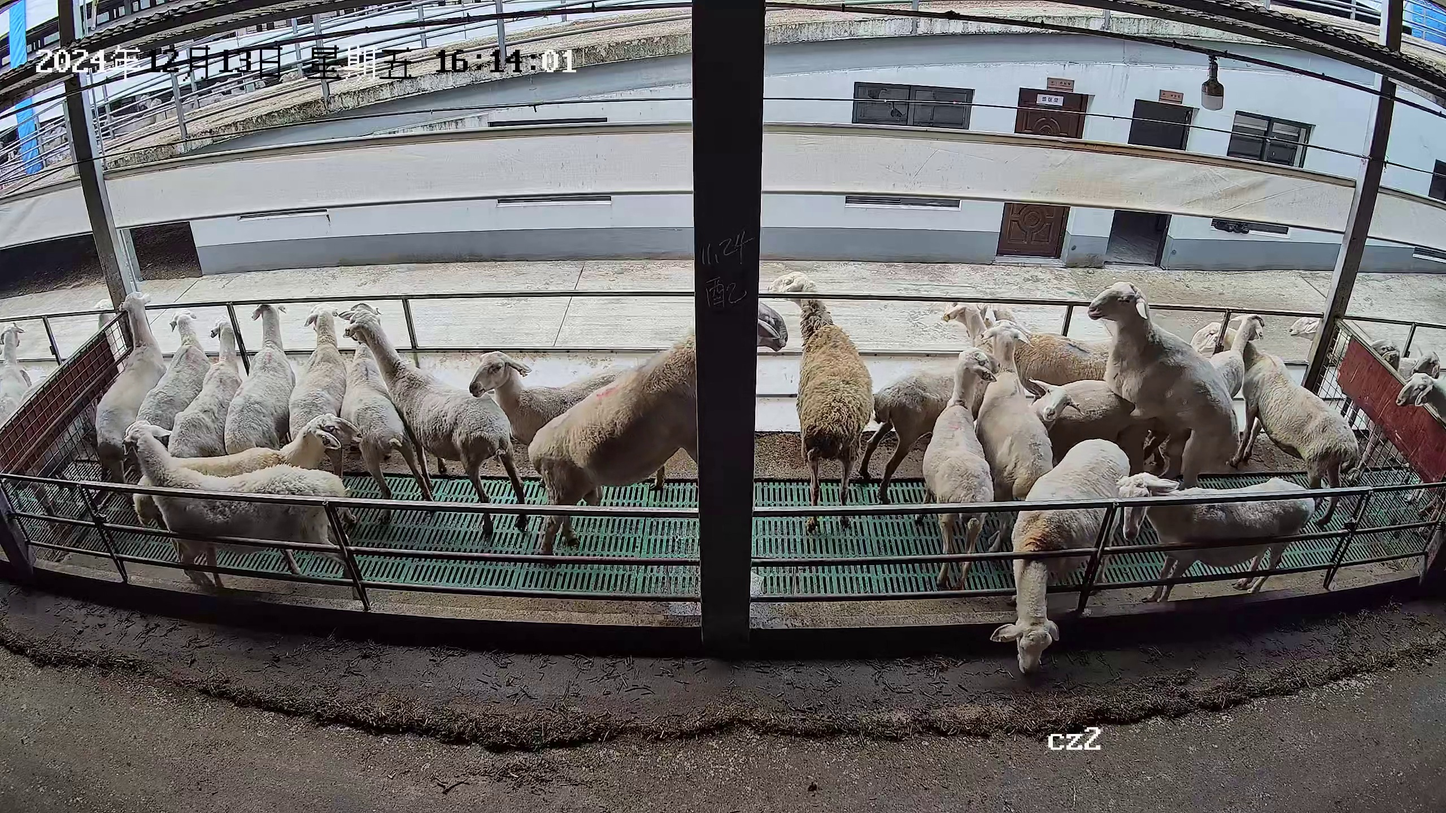Smounting: (1018, 281, 1244, 489)
mounted: (1023, 374, 1161, 478)
